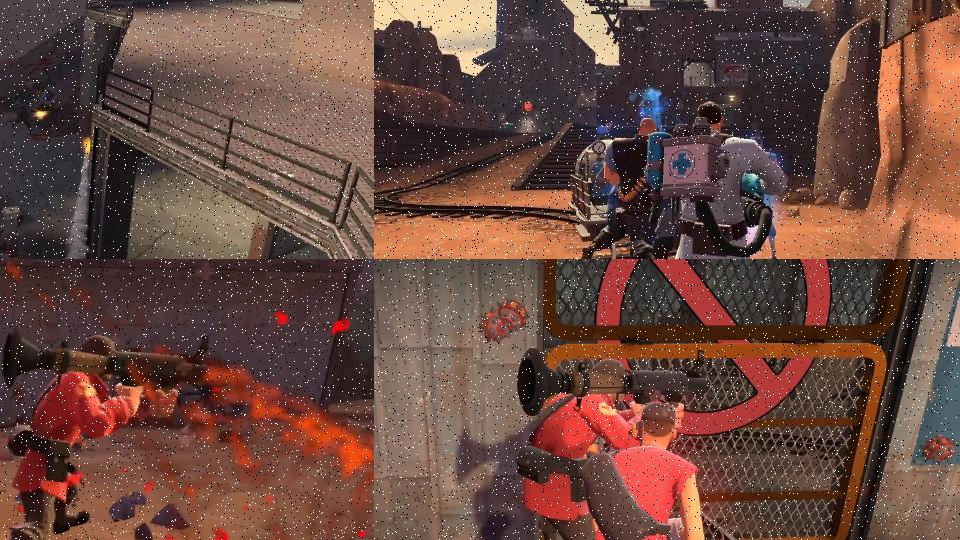Enemy: (0, 321, 212, 540), (516, 343, 711, 540), (626, 101, 797, 259), (579, 400, 706, 540), (599, 115, 679, 259), (33, 88, 68, 127), (10, 95, 33, 131)
